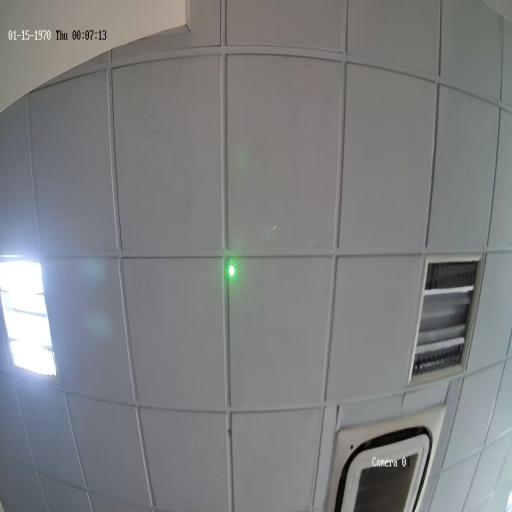laser: (226, 262, 236, 279)
